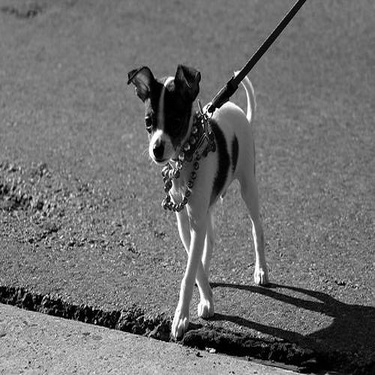dog: (108, 46, 279, 346)
